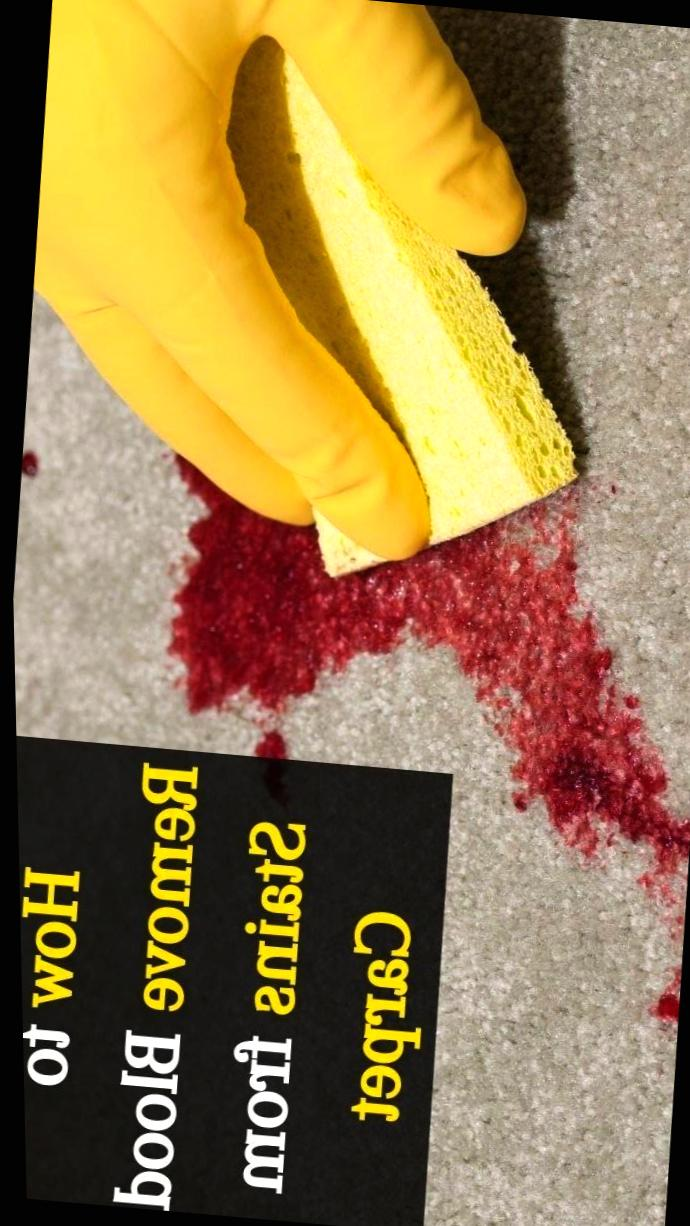Fire: (163, 454, 687, 880), (643, 969, 677, 1024), (251, 730, 283, 759)
